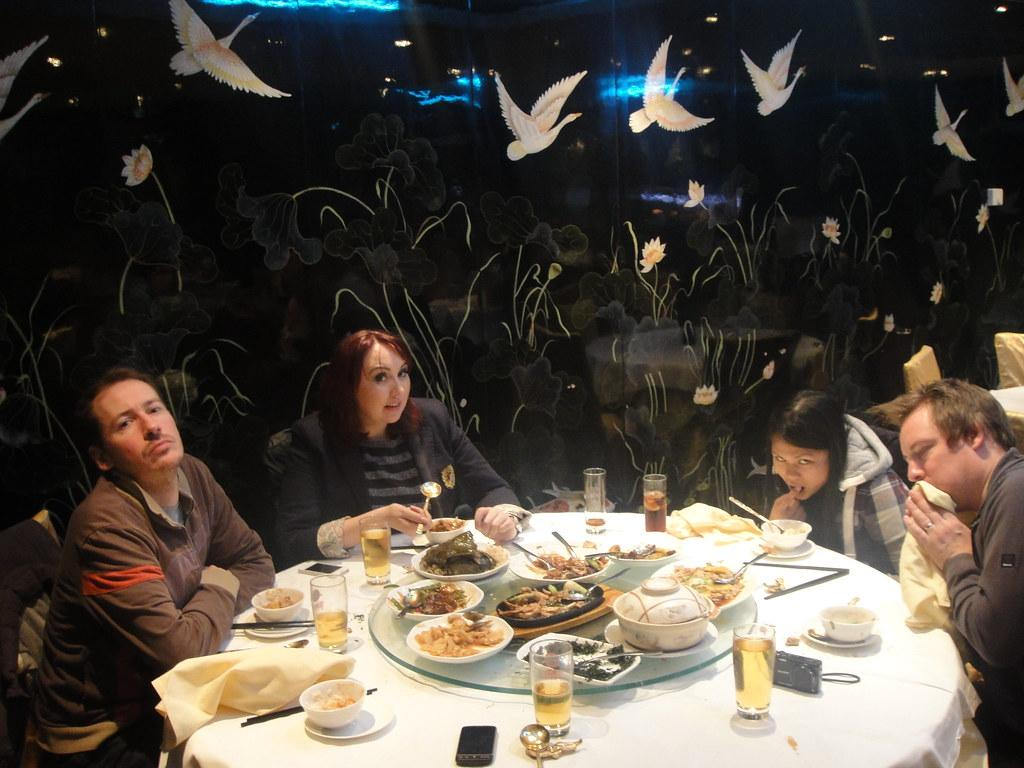table: (171, 510, 982, 767)
